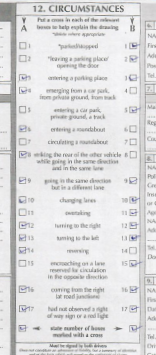check: (127, 303, 138, 314), (16, 324, 28, 334), (127, 54, 139, 64), (127, 41, 138, 51), (128, 195, 139, 205), (127, 208, 138, 218), (17, 284, 28, 294), (127, 105, 139, 114), (127, 221, 139, 230), (128, 73, 138, 83), (128, 259, 138, 269), (17, 195, 27, 205), (17, 176, 27, 186), (18, 150, 28, 160), (18, 73, 28, 83), (17, 303, 27, 313), (128, 233, 139, 242), (17, 233, 28, 242), (17, 124, 28, 133), (17, 86, 28, 95), (128, 176, 138, 185), (17, 246, 27, 255), (18, 221, 28, 230), (128, 324, 138, 333), (128, 285, 138, 294)
